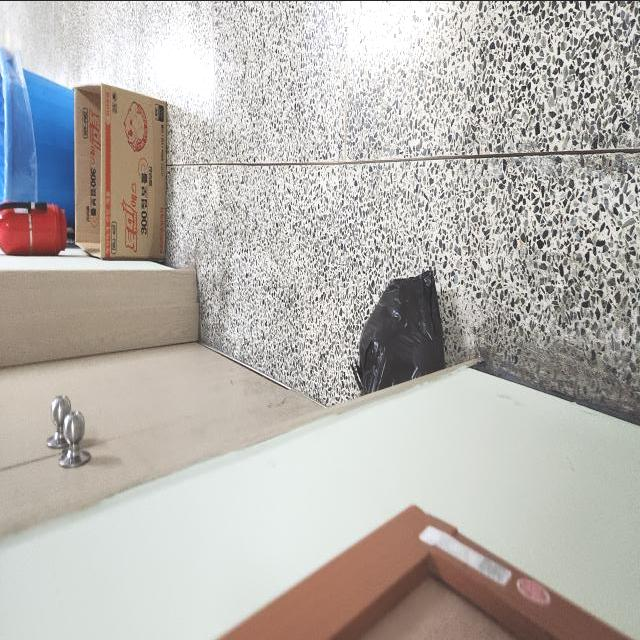black_bag: (351, 266, 444, 397)
